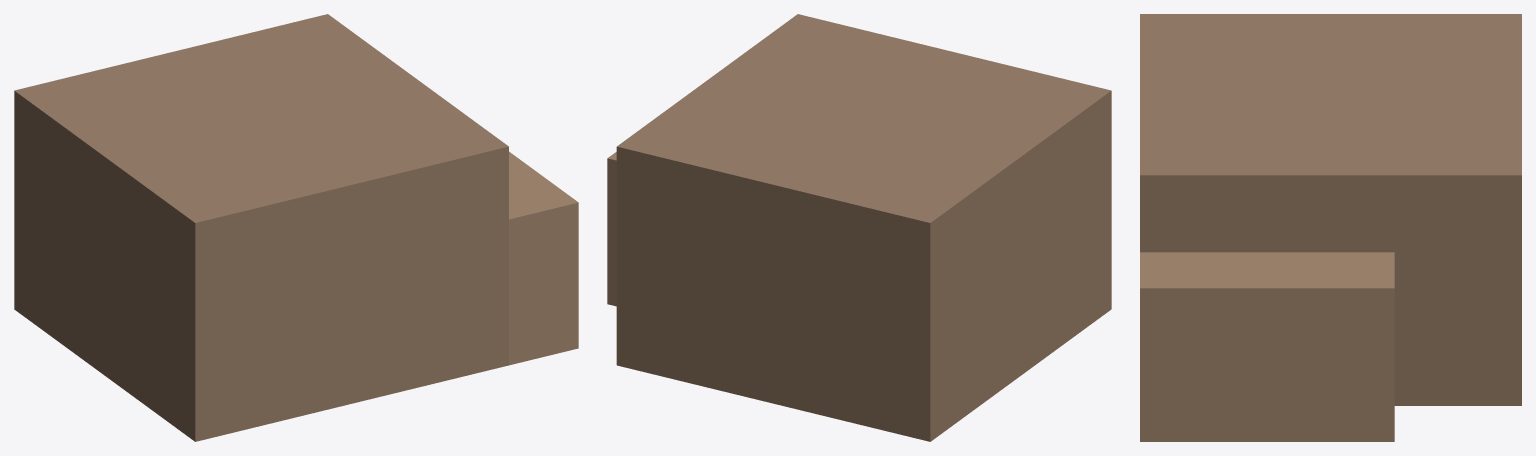
The model's file is yacimiento_arcilla_03.glb.
3 renders of one model, left to right at view 1: azimuth 30°, elevation 25°; view 2: azimuth 150°, elevation 25°; view 3: azimuth 270°, elevation 25°, orthographic. The views are drawn at different scales.
Parts seen in each view (by area): view 1: yacimiento_arcilla_03; view 2: yacimiento_arcilla_03; view 3: yacimiento_arcilla_03.
Part boxes in pixels (x1,y1,x2,y2): yacimiento_arcilla_03: (14,14,578,441); yacimiento_arcilla_03: (607,14,1111,441); yacimiento_arcilla_03: (1140,14,1521,441).
Bounding box in the file's own units: 1.1 × 0.6 × 0.9.
